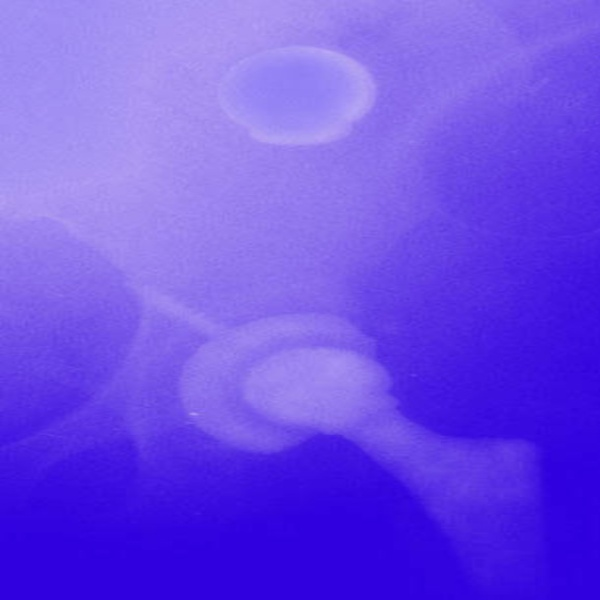Jellyfish: (141, 289, 560, 565)
